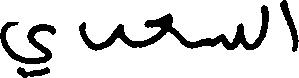X: (0, 17, 55, 77), (79, 17, 122, 55), (209, 19, 240, 54), (147, 8, 172, 50), (281, 0, 298, 56), (259, 0, 266, 50)
